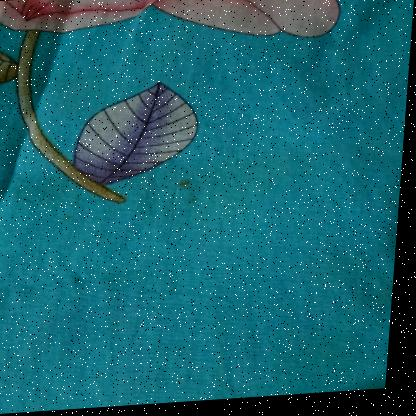spot: (179, 192, 216, 207), (175, 179, 199, 191), (61, 212, 76, 223)
